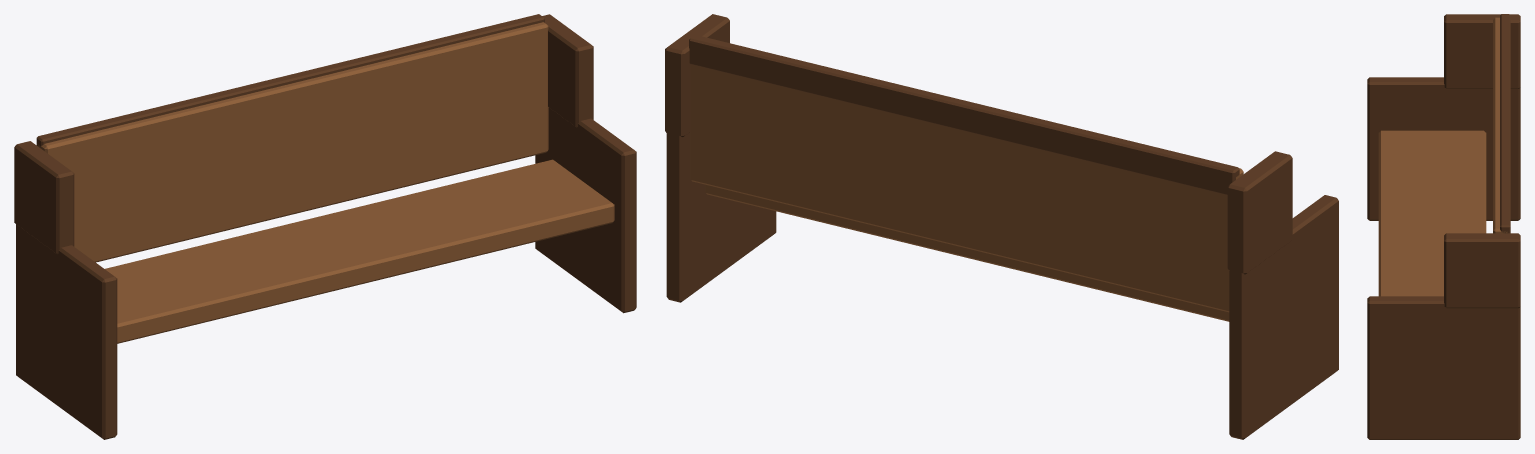
The model's file is Pew.fbx.
The picture shows the model from 3 angles, left to right: view 1: azimuth 30°, elevation 25°; view 2: azimuth 150°, elevation 25°; view 3: azimuth 270°, elevation 25°; orthographic projection. The views are drawn at different scales.
Parts seen in each view (by area): view 1: Pew; view 2: Pew; view 3: Pew.
Part boxes in pixels (x1,y1,x2,y2): Pew: (14, 14, 636, 439); Pew: (665, 14, 1338, 439); Pew: (1367, 14, 1520, 439).
Bounding box in the file's own units: 7 × 3 × 2.
